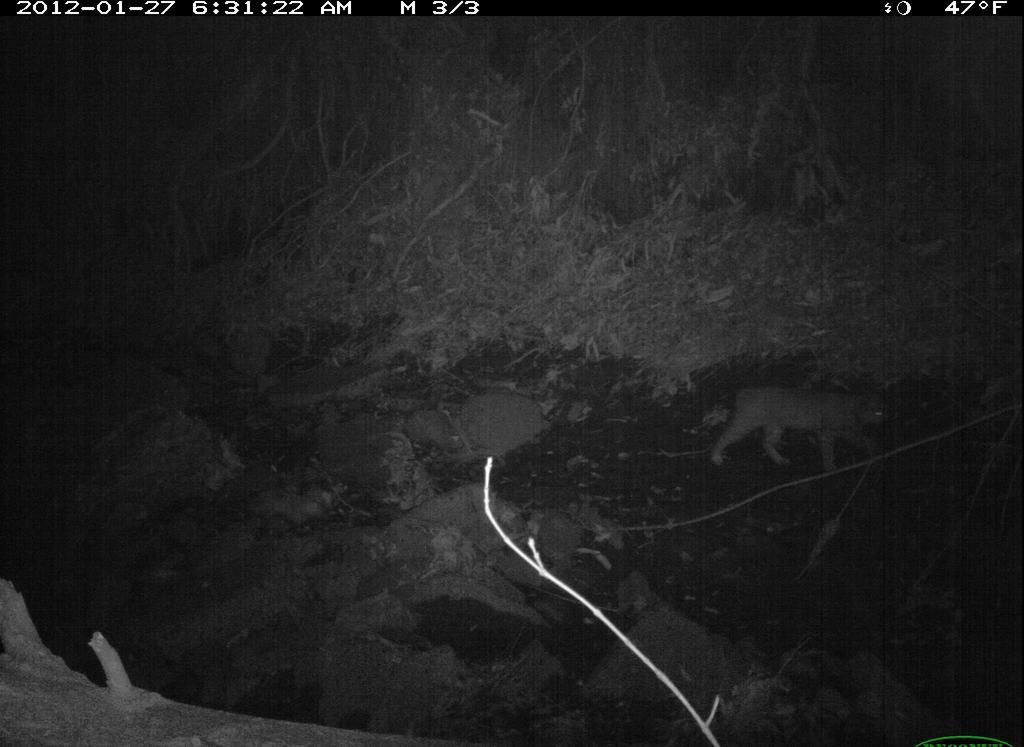bobcat: (688, 358, 905, 483)
